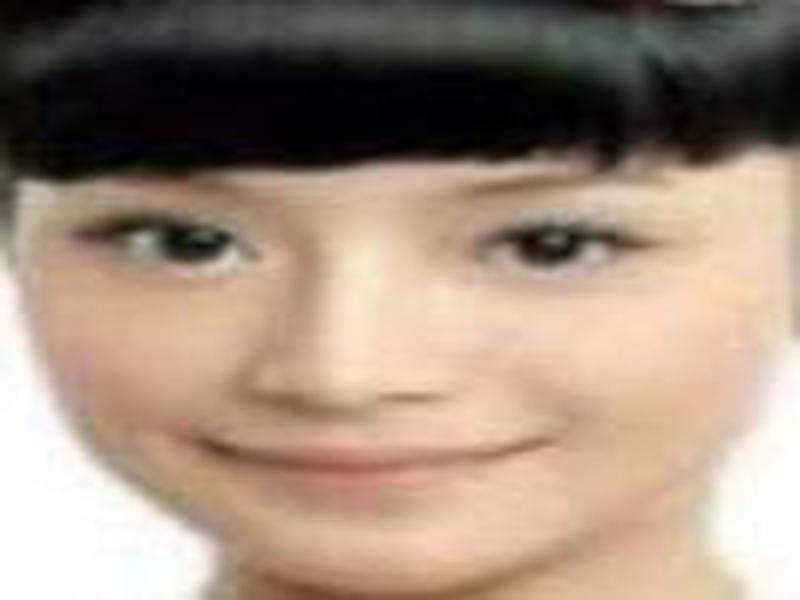without_mask: (12, 146, 787, 593)
